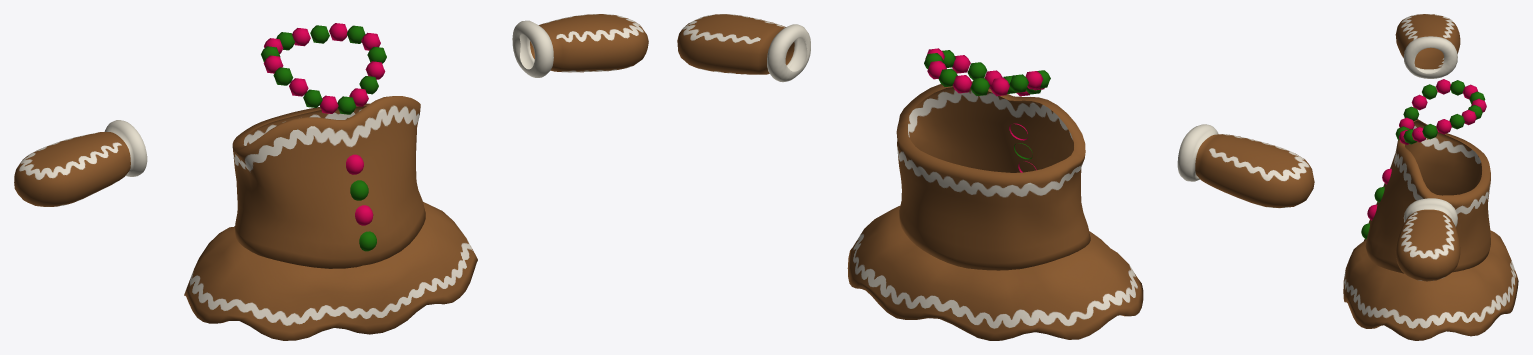
File: 23姜饼蓬蓬裙.fbx
3 renders of one model, left to right at view 1: azimuth 30°, elevation 25°; view 2: azimuth 150°, elevation 25°; view 3: azimuth 270°, elevation 25°, orthographic. The views are drawn at different scales.
Visible parts, largest first — view 1: 23姜饼蓬蓬裙; view 2: 23姜饼蓬蓬裙; view 3: 23姜饼蓬蓬裙.
Part boxes in pixels (<box>): 23姜饼蓬蓬裙: <box>14,14,648,340</box>; 23姜饼蓬蓬裙: <box>677,14,1314,340</box>; 23姜饼蓬蓬裙: <box>1343,14,1518,340</box>.
Size of the model in its own units: 2.05 by 0.7737 by 0.6121.
